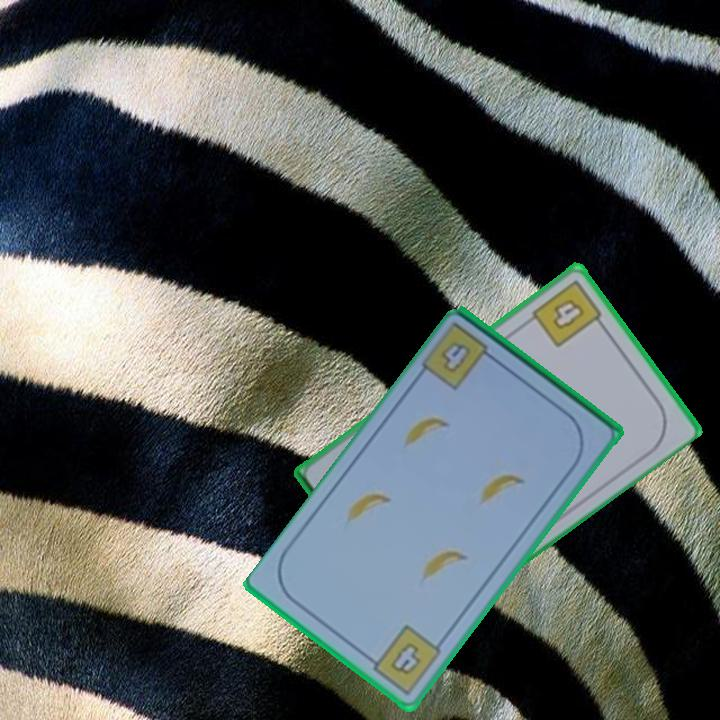4b: (362, 621, 445, 698), (527, 276, 608, 351), (437, 338, 475, 377)
